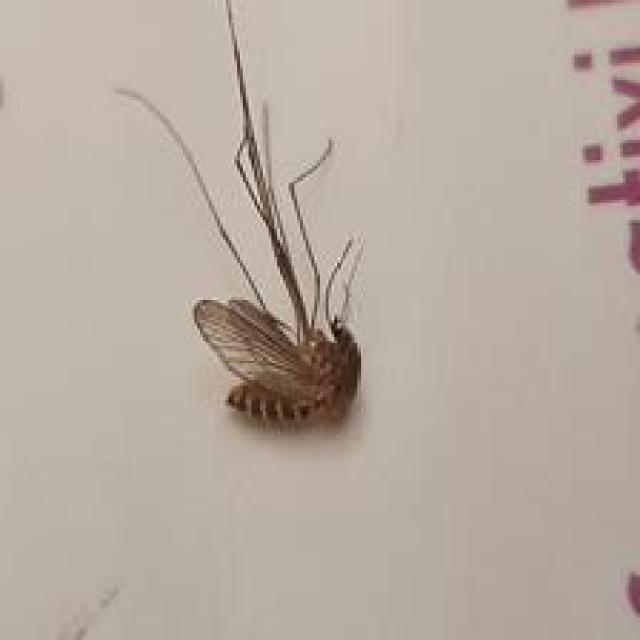Culex: (112, 0, 367, 434)
